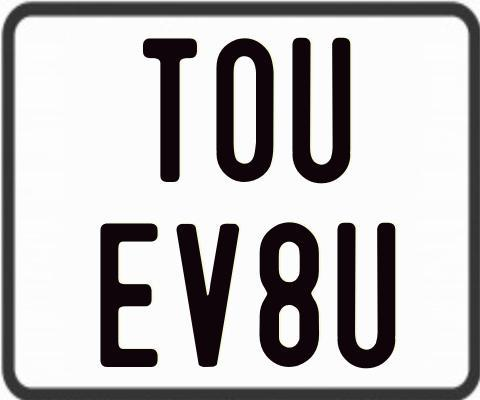0: (215, 37, 278, 186)
8: (257, 221, 322, 370)
E: (100, 222, 158, 370)
T: (140, 35, 200, 179)
U: (335, 220, 396, 370), (289, 35, 347, 185)
V: (175, 222, 240, 367)
